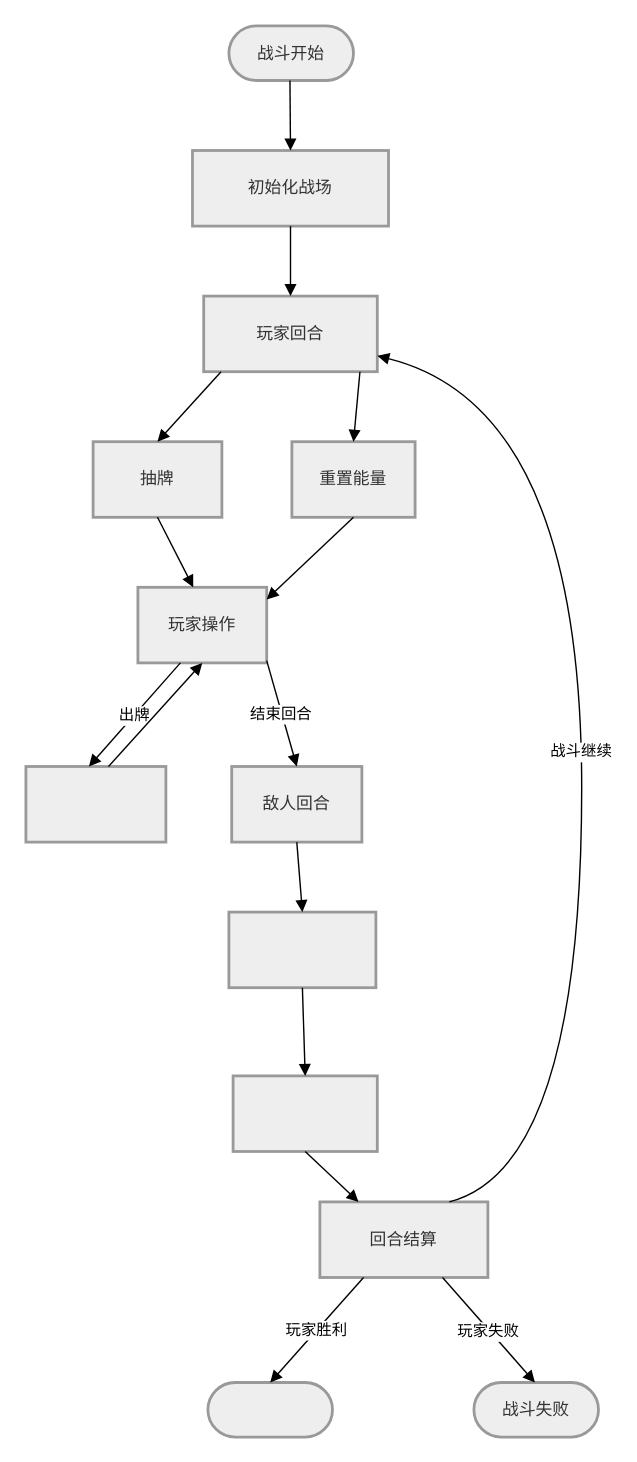
The diagram is 637 pixels wide and 1462 high, and some of its shapes have lost their labels. The box of each missing label's shape, as (x1, y1, x2, y2) in pixels:
战斗胜利: (206, 1380, 333, 1438)
执行卡牌效果: (24, 764, 167, 843)
敌人执行行动: (231, 1074, 378, 1152)
显示敌人意图: (227, 910, 377, 988)
